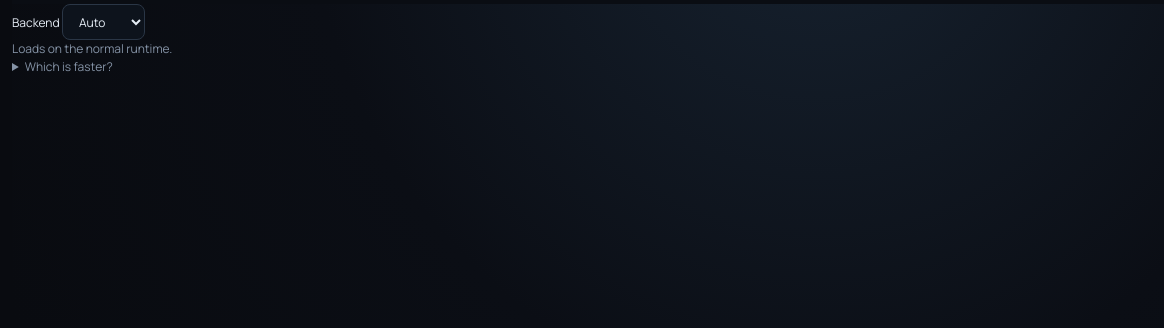
Test case: BackendChoice › is locked while another action runs and reports a failed save
Later steps or results of the test are not shown.
Select "ROCm" in the dropdown. click: (103, 22)
box: x1=62 y1=4 x2=145 y2=40
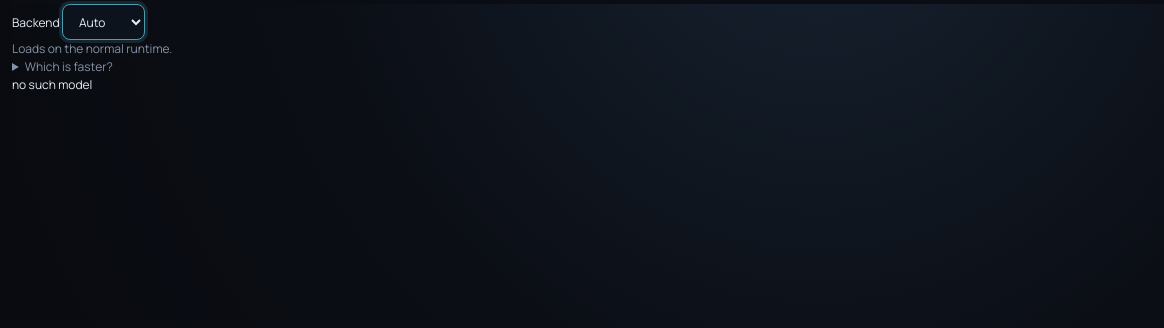
Result: the text "no such model" is shown at x1=12 y1=76 x2=92 y2=93
